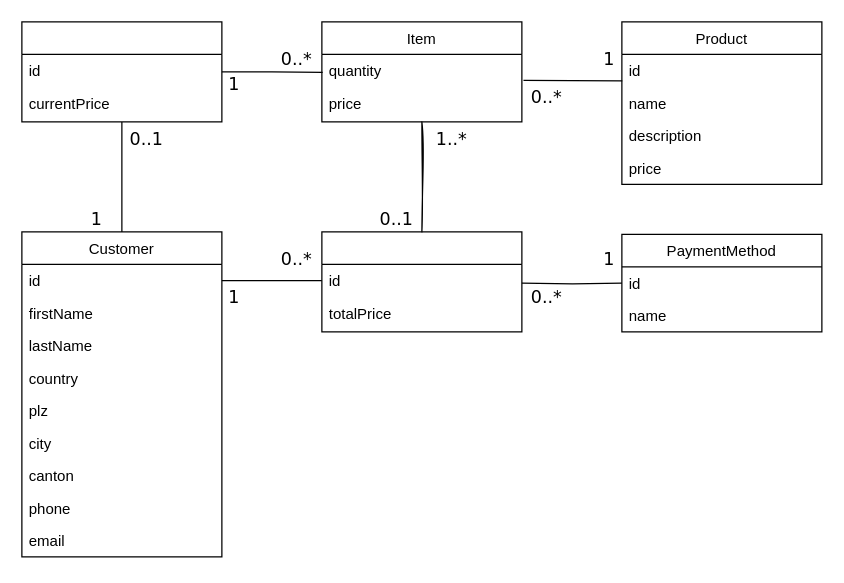
This 844x583 diagram has some shape labels left out. The shapes that lost their labels are listed below. From the top down, each one's box as (x1, y1, x2, y2) in pixels, then its label:
(21, 21, 222, 122): ShoppingCart
(321, 231, 522, 332): Order
